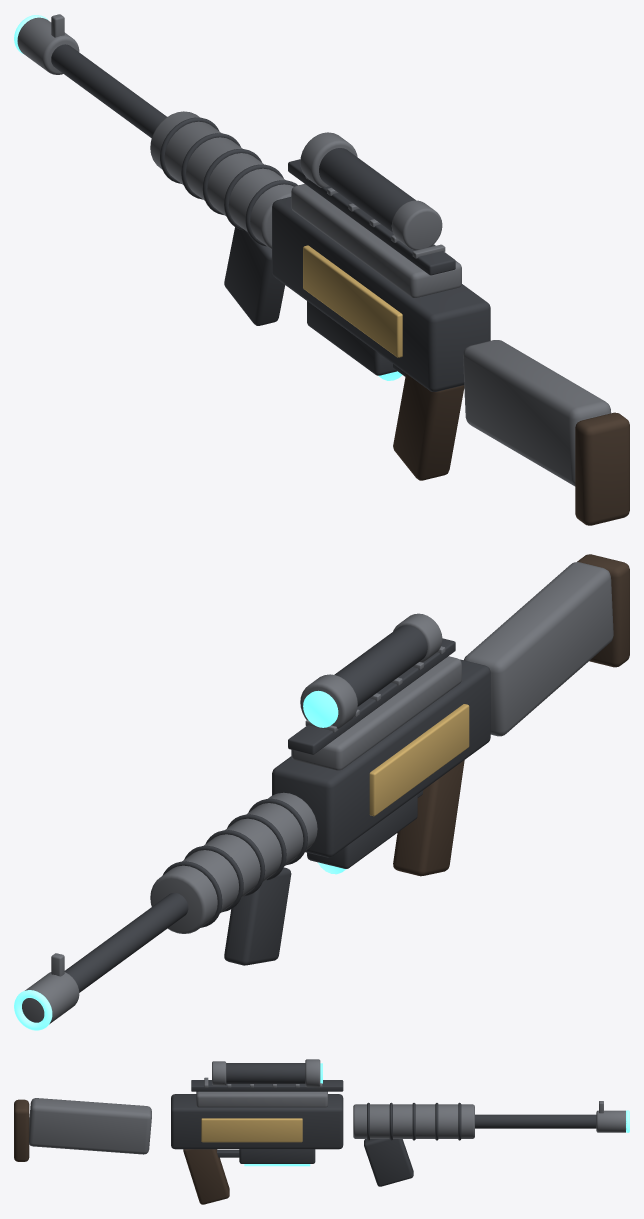
The model's file is carbine.glb.
The picture shows the model from 3 angles, top to bottom: view 1: azimuth 30°, elevation 25°; view 2: azimuth 150°, elevation 25°; view 3: azimuth 270°, elevation 25°; orthographic projection. The views are drawn at different scales.
Visible parts, largest first — view 1: receiver, stock, shroud, butt_pad, upper_cover, pistol_grip, side_plate-1, fore_grip, scope_tube, barrel, rail, cell_housing (+3 smaller); view 2: stock, receiver, shroud, upper_cover, side_plate-1, pistol_grip, fore_grip, barrel, scope_tube, butt_pad, rail, cell_housing (+5 smaller); view 3: stock, receiver, shroud, side_plate1, upper_cover, barrel, pistol_grip, fore_grip, scope_tube, rail, cell_housing, butt_pad (+3 smaller).
Part boxes in pixels (<box>): receiver: <box>272,197,490,391</box>; stock: <box>463,340,611,486</box>; shroud: <box>150,111,293,249</box>; butt_pad: <box>575,412,629,525</box>; upper_cover: <box>291,184,461,297</box>; pistol_grip: <box>393,373,464,480</box>; side_plate-1: <box>303,245,402,357</box>; fore_grip: <box>224,227,285,325</box>; scope_tube: <box>319,148,415,232</box>; barrel: <box>51,44,166,138</box>; rail: <box>288,159,455,275</box>; cell_housing: <box>307,301,396,375</box>; stock: <box>464,562,613,736</box>; receiver: <box>272,659,490,857</box>; shroud: <box>150,792,317,933</box>; upper_cover: <box>291,656,461,770</box>; side_plate-1: <box>369,704,469,816</box>; pistol_grip: <box>393,760,464,876</box>; fore_grip: <box>224,867,291,965</box>; barrel: <box>64,893,188,992</box>; scope_tube: <box>334,625,427,706</box>; butt_pad: <box>577,554,629,667</box>; rail: <box>288,638,455,754</box>; cell_housing: <box>307,794,417,868</box>; stock: <box>29,1098,151,1154</box>; receiver: <box>171,1094,343,1149</box>; shroud: <box>353,1104,474,1138</box>; side_plate1: <box>201,1118,302,1142</box>; upper_cover: <box>196,1091,327,1107</box>; barrel: <box>475,1114,596,1128</box>; pistol_grip: <box>183,1149,229,1204</box>; fore_grip: <box>364,1139,413,1186</box>; scope_tube: <box>226,1063,305,1083</box>; rail: <box>191,1080,343,1091</box>; cell_housing: <box>239,1149,315,1163</box>; butt_pad: <box>14,1099,29,1161</box>.
Size of the model in its own units: 0.088 by 0.3072 by 1.22.
